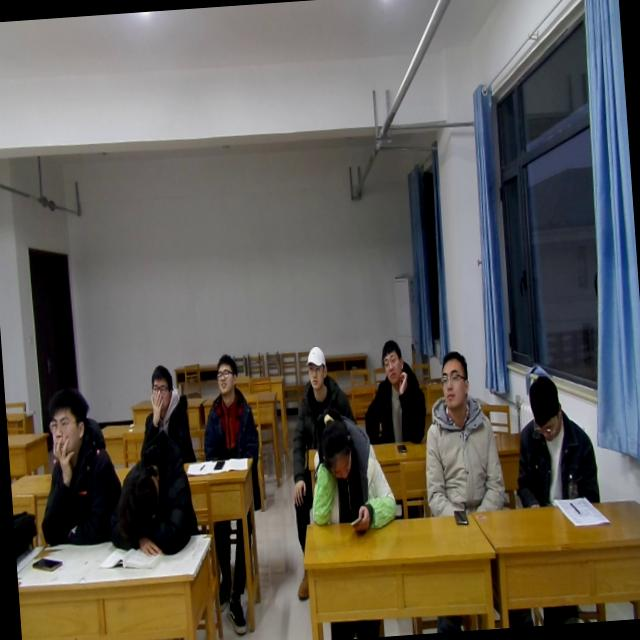bow: (100, 428, 200, 560), (303, 406, 399, 540)
down: (316, 412, 356, 488), (524, 372, 566, 443)
lookup: (42, 383, 93, 476), (432, 346, 472, 412), (144, 356, 176, 416), (375, 334, 408, 390), (298, 341, 330, 395), (212, 347, 240, 396)
sit: (28, 380, 127, 554), (414, 345, 508, 520), (508, 367, 602, 512), (358, 333, 430, 450), (130, 358, 200, 472), (284, 340, 356, 450), (194, 350, 262, 462)
